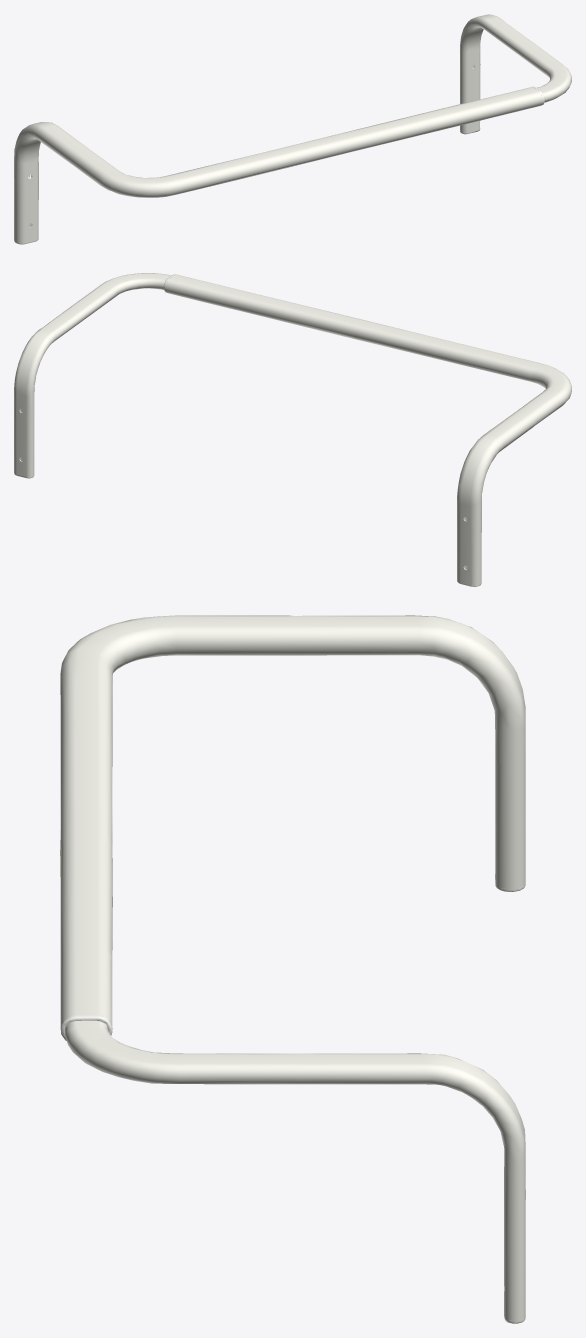
File: MULIG.glb
The picture shows the model from 3 angles, top to bottom: view 1: azimuth 30°, elevation 25°; view 2: azimuth 150°, elevation 25°; view 3: azimuth 270°, elevation 25°; orthographic projection. The views are drawn at different scales.
Visible parts, largest first — view 1: model; view 2: model; view 3: model.
Boxes of the visible parts, box(x1,y1,x2,y2) form: model: box(14, 14, 571, 244); model: box(14, 273, 571, 586); model: box(60, 615, 525, 1323).
Bounding box in the file's own units: 0.6007 × 0.1607 × 0.2605.
1 material, 1 textured.
